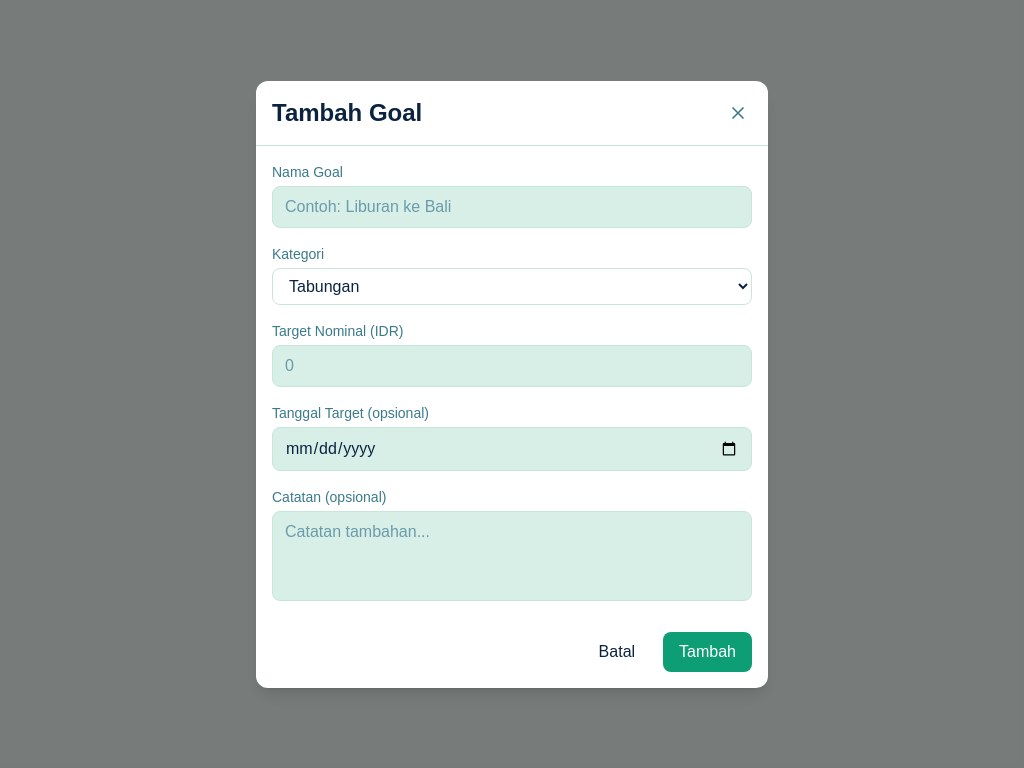
it: GoalForm › shows error when name is empty on submit
The image size is (1024, 768).
Type "1000000" into the number field labelled "Target Nominal (IDR)".
click(512, 366); type("1000000")  # box [272, 344, 752, 386]
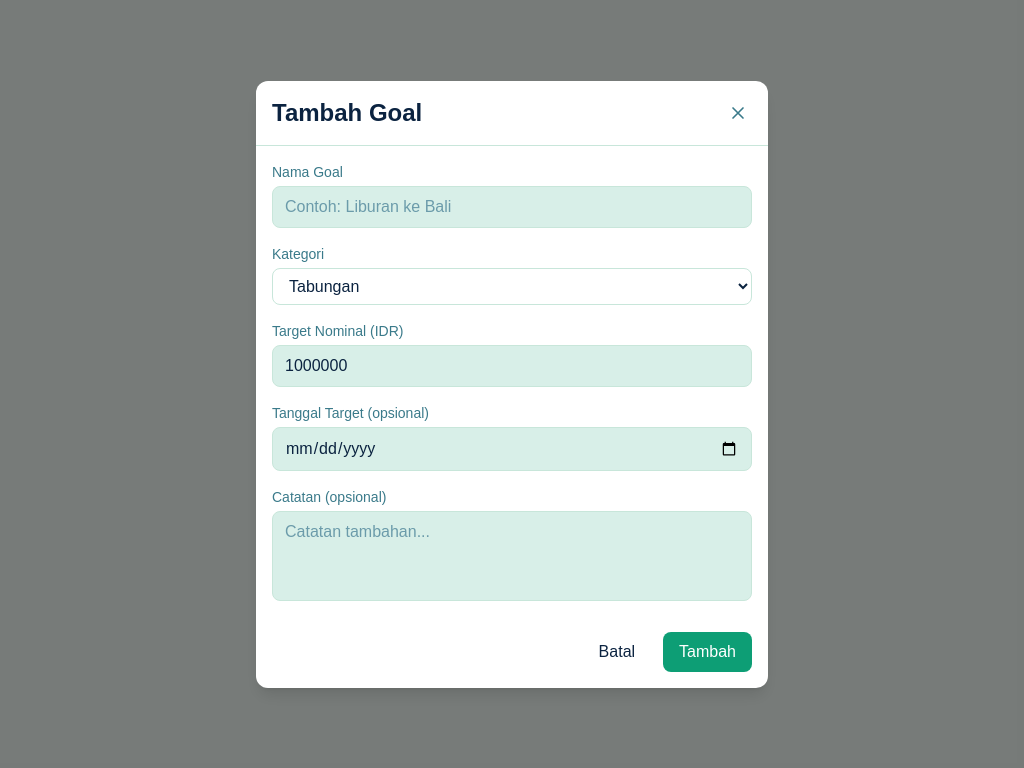
Click the button "Tambah".
click(708, 652)  # box [663, 632, 752, 672]
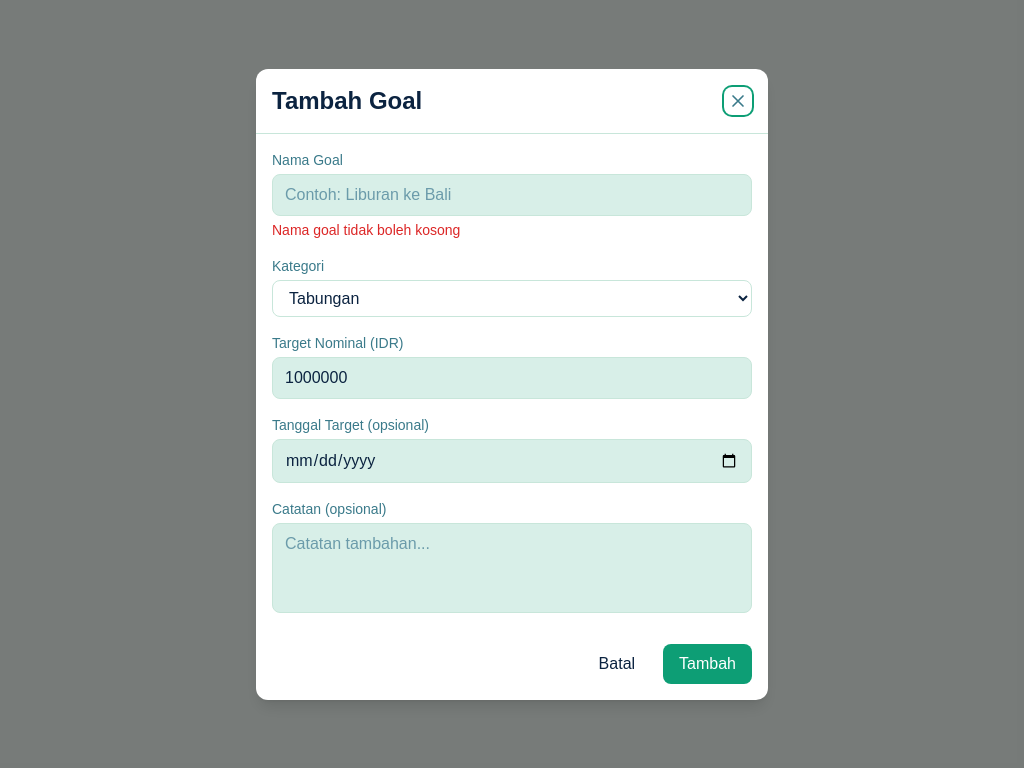
Check: the text "Nama goal tidak boleh kosong" is shown, box [272, 222, 460, 238]
